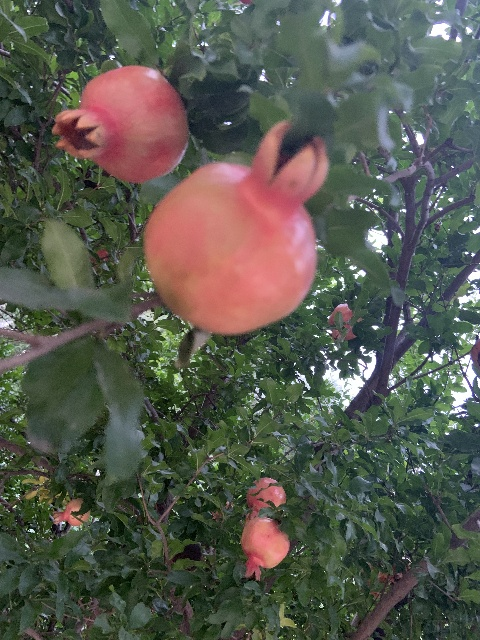ripe: (142, 119, 326, 335), (52, 65, 188, 182), (240, 517, 290, 580), (245, 477, 286, 523), (328, 303, 361, 340), (52, 498, 89, 526), (210, 500, 234, 521)
